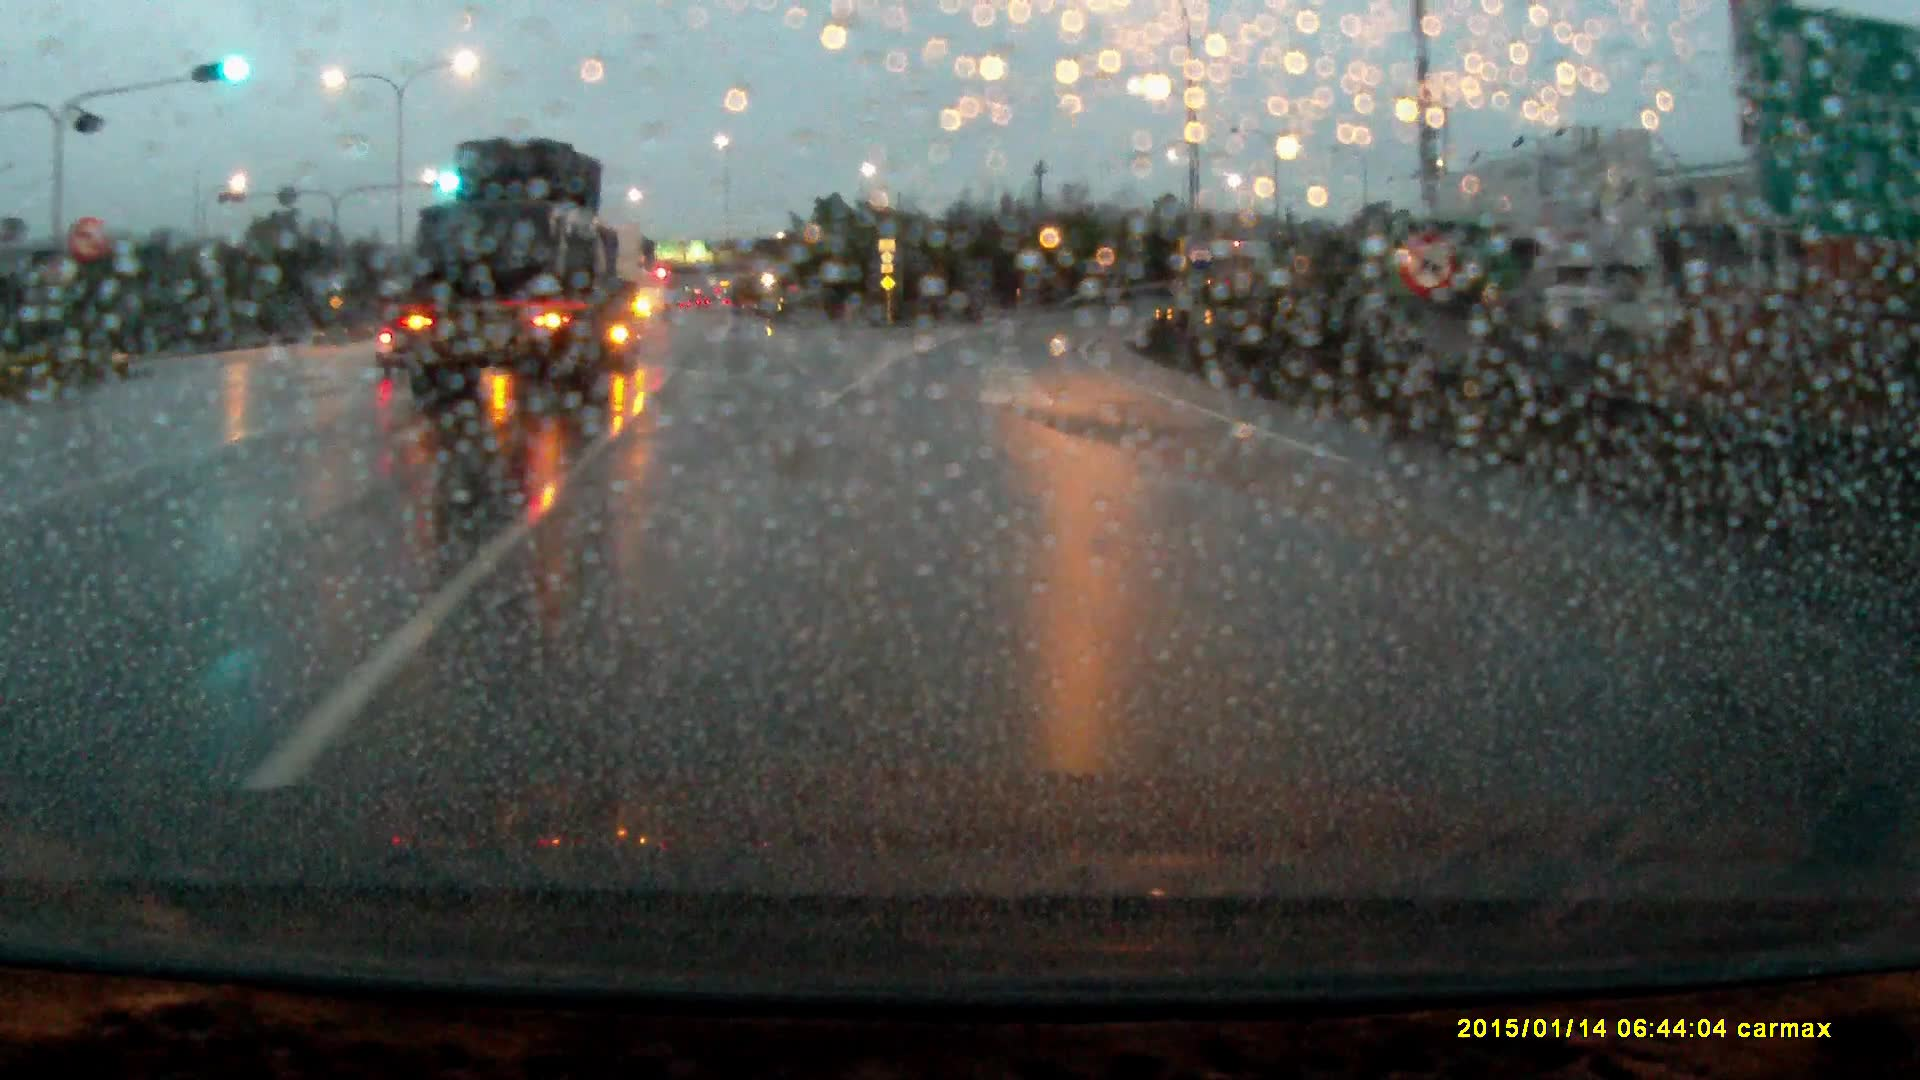rider: (370, 286, 420, 380)
vehicle: (400, 138, 647, 419)
